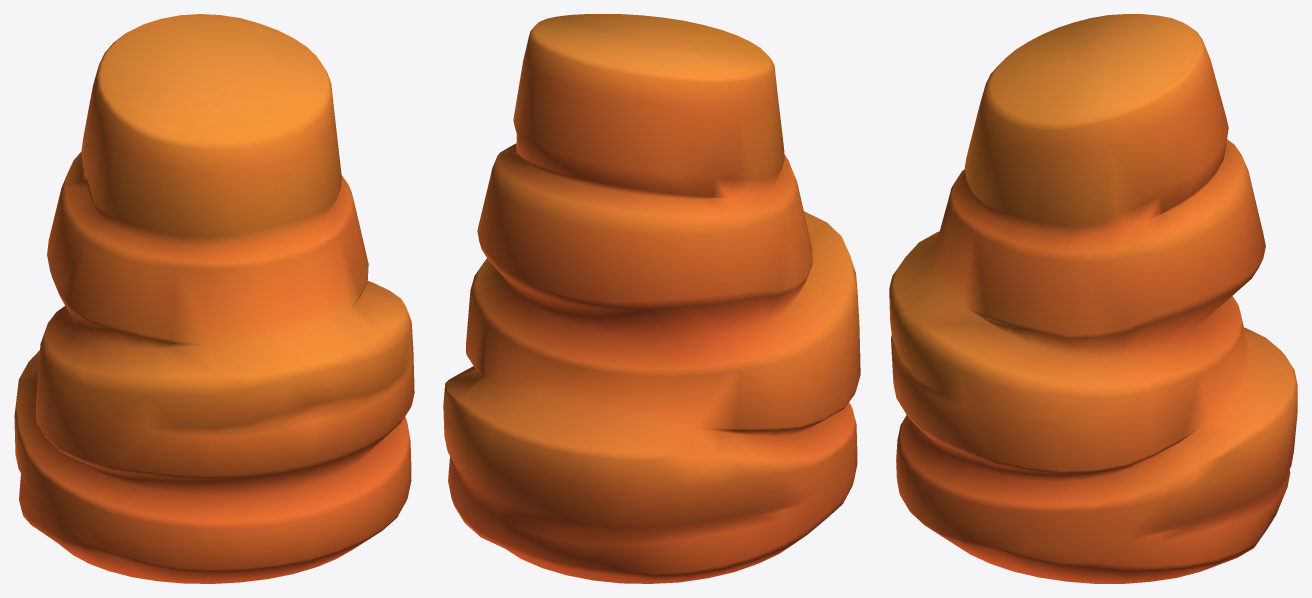
The model's file is rock_spire.glb.
The picture shows the model from 3 angles, left to right: view 1: azimuth 30°, elevation 25°; view 2: azimuth 150°, elevation 25°; view 3: azimuth 270°, elevation 25°; orthographic projection. The views are drawn at different scales.
Visible parts, largest first — view 1: tripo_node_48f55379-27e1-4ff4-a868-2e246746be8d; view 2: tripo_node_48f55379-27e1-4ff4-a868-2e246746be8d; view 3: tripo_node_48f55379-27e1-4ff4-a868-2e246746be8d.
Boxes of the visible parts, <box> form: tripo_node_48f55379-27e1-4ff4-a868-2e246746be8d: <box>14,14,414,583</box>; tripo_node_48f55379-27e1-4ff4-a868-2e246746be8d: <box>443,14,860,583</box>; tripo_node_48f55379-27e1-4ff4-a868-2e246746be8d: <box>889,14,1297,583</box>.
Size of the model in its own units: 3.13 by 4.12 by 3.2.
1 material, 1 textured.
